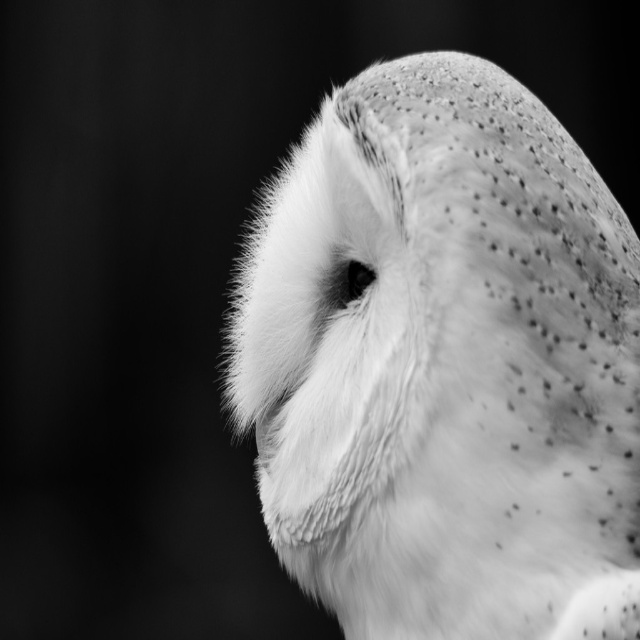Owl: (215, 48, 640, 639)
